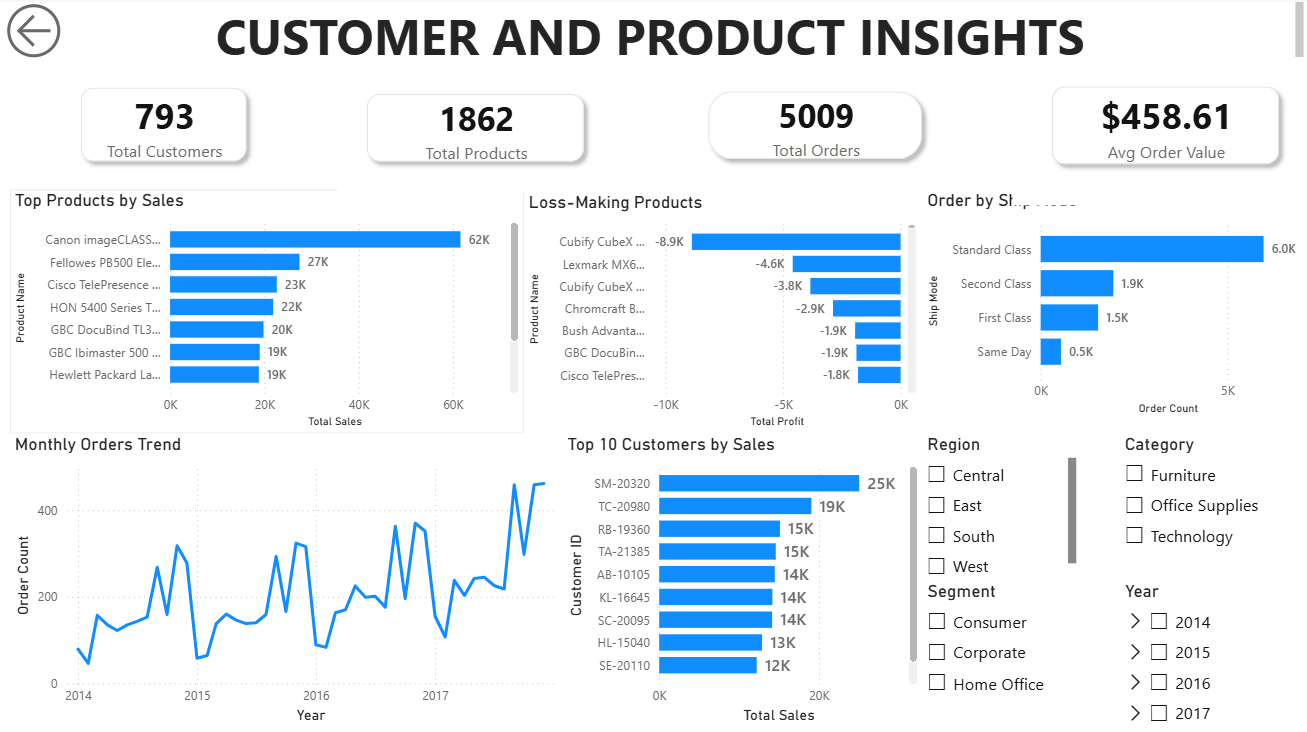

Layout of this report page (visuals, bound fields, positions):
{"tool":"powerbi","page":{"name":"Customer and Product Insights","canvas":[1280,720],"ordinal":2},"visuals":[{"type":"cardVisual","fields":{"Data":["sales_dataset.Total Customers"]},"box":[50.1,59.9,220.1,130.8],"z":0},{"type":"cardVisual","fields":{"Data":["sales_dataset.Avg Order Value"]},"box":[980.7,66,280,124.7],"z":1000},{"type":"clusteredBarChart","title":"Top Products by Sales","fields":{"Category":["sales_dataset.Product Name"],"Y":["sales_dataset.Total Sales"]},"box":[9.8,188.3,502.6,238.5],"z":2000},{"type":"clusteredBarChart","title":"Order by Ship Mode","fields":{"Category":["sales_dataset.Ship Mode"],"Y":["sales_dataset.Order Count"]},"box":[902.5,188.3,377.9,225],"z":3000},{"type":"lineChart","title":"Monthly Orders Trend","fields":{"Y":["sales_dataset.Order Count"],"Category":["sales_dataset.Order Date.Variation.Date Hierarchy.Year","sales_dataset.Order Date.Variation.Date Hierarchy.Month"]},"box":[9.8,426.8,540.5,288.6],"z":4000},{"type":"clusteredBarChart","title":"Top 10 Customers by Sales","fields":{"Category":["sales_dataset.Customer ID"],"Y":["sales_dataset.Total Sales"]},"box":[550.3,426.8,352.2,288.6],"z":5000},{"type":"textbox","box":[0,0,1280.3,77],"z":6000},{"type":"actionButton","box":[0,0,100.3,66],"z":7000},{"type":"listSlicer","fields":{"Values":["sales_dataset.Region"]},"box":[902.5,426.8,155.3,144.3],"z":8000},{"type":"listSlicer","fields":{"Values":["sales_dataset.Category"]},"box":[1095.7,426.8,184.6,139.4],"z":9000},{"type":"listSlicer","fields":{"Values":["sales_dataset.Segment"]},"box":[902.5,571.1,155.3,144.3],"z":10000},{"type":"listSlicer","fields":{"Values":["sales_dataset.Order Date.Variation.Date Hierarchy.Year","sales_dataset.Order Date.Variation.Date Hierarchy.Month","sales_dataset.Order Date.Variation.Date Hierarchy.Day"]},"box":[1095.7,571.1,184.6,149.2],"z":11000},{"type":"cardVisual","fields":{"Data":["sales_dataset.Total Products"]},"box":[330.2,66,270.2,124.7],"z":12000},{"type":"cardVisual","fields":{"Data":["sales_dataset.Avg Order Value"]},"box":[990.7,76,280,128.4],"z":13000},{"type":"cardVisual","fields":{"Data":["sales_dataset.Avg Order Value"]},"box":[1000.3,66,280,128.4],"z":14000},{"type":"cardVisual","fields":{"Data":["sales_dataset.Avg Order Value"]},"box":[1000.3,58.7,280,134.5],"z":15000},{"type":"cardVisual","fields":{"Data":["sales_dataset.Total Orders"]},"box":[664,63.6,267.8,124.7],"z":16000},{"type":"clusteredBarChart","title":"Loss-Making Products","fields":{"Category":["sales_dataset.Product Name"],"Y":["sales_dataset.Total Profit"]},"box":[512.4,190.8,388.9,236],"z":17000}]}

Visuals, with their boxes in screenshot pixels (x1, y1, x2, y2), scaled from the page's 1280x720 canvas onto the 1307x732 screenshot:
cardVisual - sales_dataset.Total Customers: detection(51, 61, 276, 194)
cardVisual - sales_dataset.Avg Order Value: detection(1001, 67, 1287, 194)
"Top Products by Sales" clusteredBarChart: detection(10, 191, 523, 434)
"Order by Ship Mode" clusteredBarChart: detection(922, 191, 1306, 420)
"Monthly Orders Trend" lineChart: detection(10, 434, 562, 727)
"Top 10 Customers by Sales" clusteredBarChart: detection(562, 434, 922, 727)
textbox: detection(0, 0, 1306, 78)
actionButton: detection(0, 0, 102, 67)
listSlicer - sales_dataset.Region: detection(922, 434, 1080, 581)
listSlicer - sales_dataset.Category: detection(1119, 434, 1306, 576)
listSlicer - sales_dataset.Segment: detection(922, 581, 1080, 727)
listSlicer - sales_dataset.Order Date.Variation.Date Hierarchy.Year x sales_dataset.Order Date.Variation.Date Hierarchy.Month: detection(1119, 581, 1306, 731)
cardVisual - sales_dataset.Total Products: detection(337, 67, 613, 194)
cardVisual - sales_dataset.Avg Order Value: detection(1012, 77, 1298, 208)
cardVisual - sales_dataset.Avg Order Value: detection(1021, 67, 1306, 198)
cardVisual - sales_dataset.Avg Order Value: detection(1021, 60, 1306, 196)
cardVisual - sales_dataset.Total Orders: detection(678, 65, 951, 191)
"Loss-Making Products" clusteredBarChart: detection(523, 194, 920, 434)
